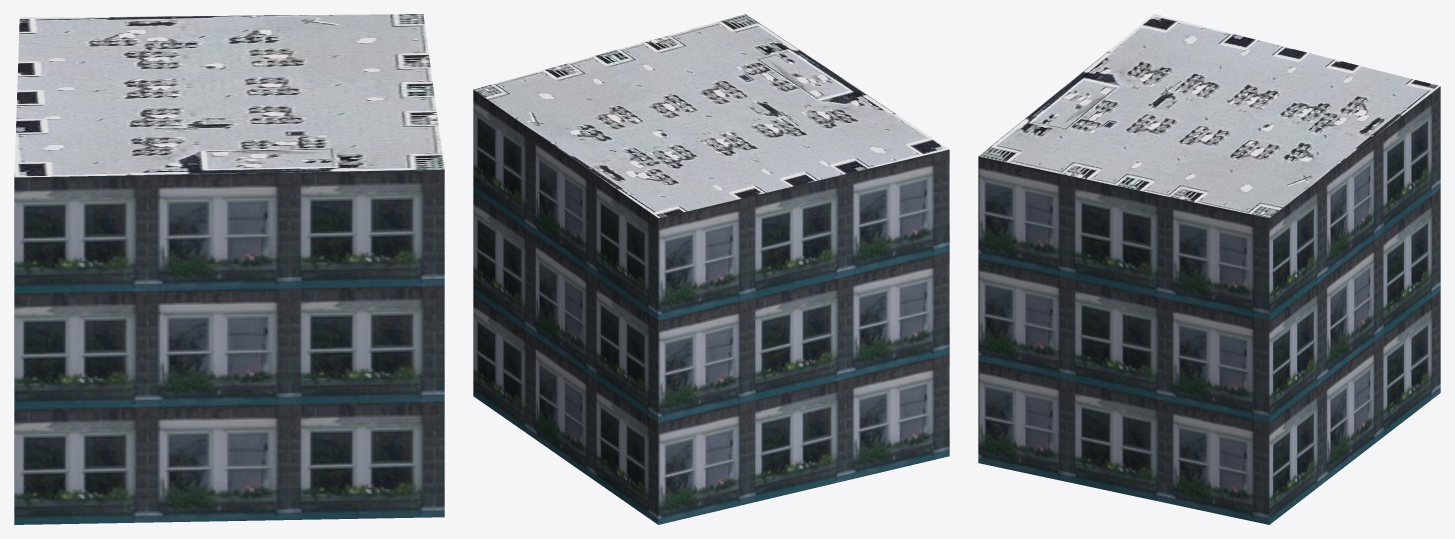
File: ResTex__3806.fbx
3 views of the same model, side by side, from view 1: azimuth 30°, elevation 25°; view 2: azimuth 150°, elevation 25°; view 3: azimuth 270°, elevation 25° (orthographic). The views are drawn at different scales.
Parts seen in each view (by area): view 1: CityEngineMaterial_11_m, CityEngineMaterial_m; view 2: CityEngineMaterial_11_m, CityEngineMaterial_m; view 3: CityEngineMaterial_11_m, CityEngineMaterial_m.
Boxes of the visible parts, x1,y1,x2,y2 form: CityEngineMaterial_11_m: [14, 169, 444, 524]; CityEngineMaterial_m: [14, 14, 444, 177]; CityEngineMaterial_11_m: [473, 90, 949, 524]; CityEngineMaterial_m: [473, 14, 948, 218]; CityEngineMaterial_11_m: [978, 86, 1440, 524]; CityEngineMaterial_m: [978, 14, 1440, 218].
Size of the model in its own units: 12.86 by 9 by 12.3.
Materials: 2 (2 with a texture image).
